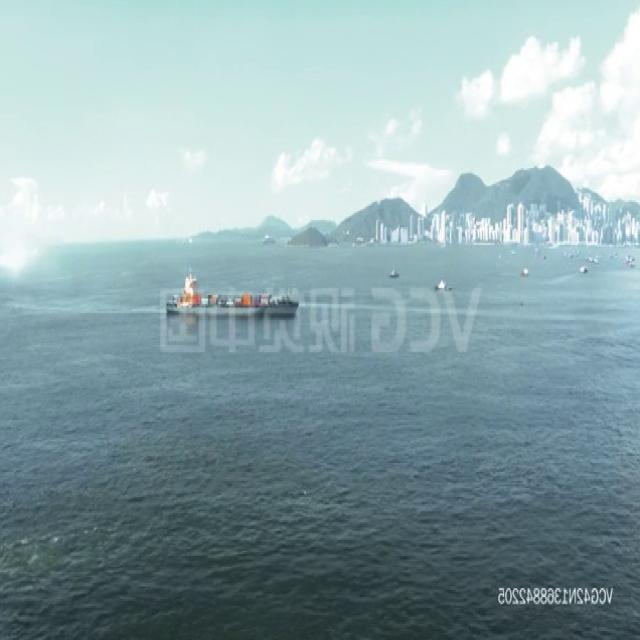cargoship: (163, 269, 308, 329)
